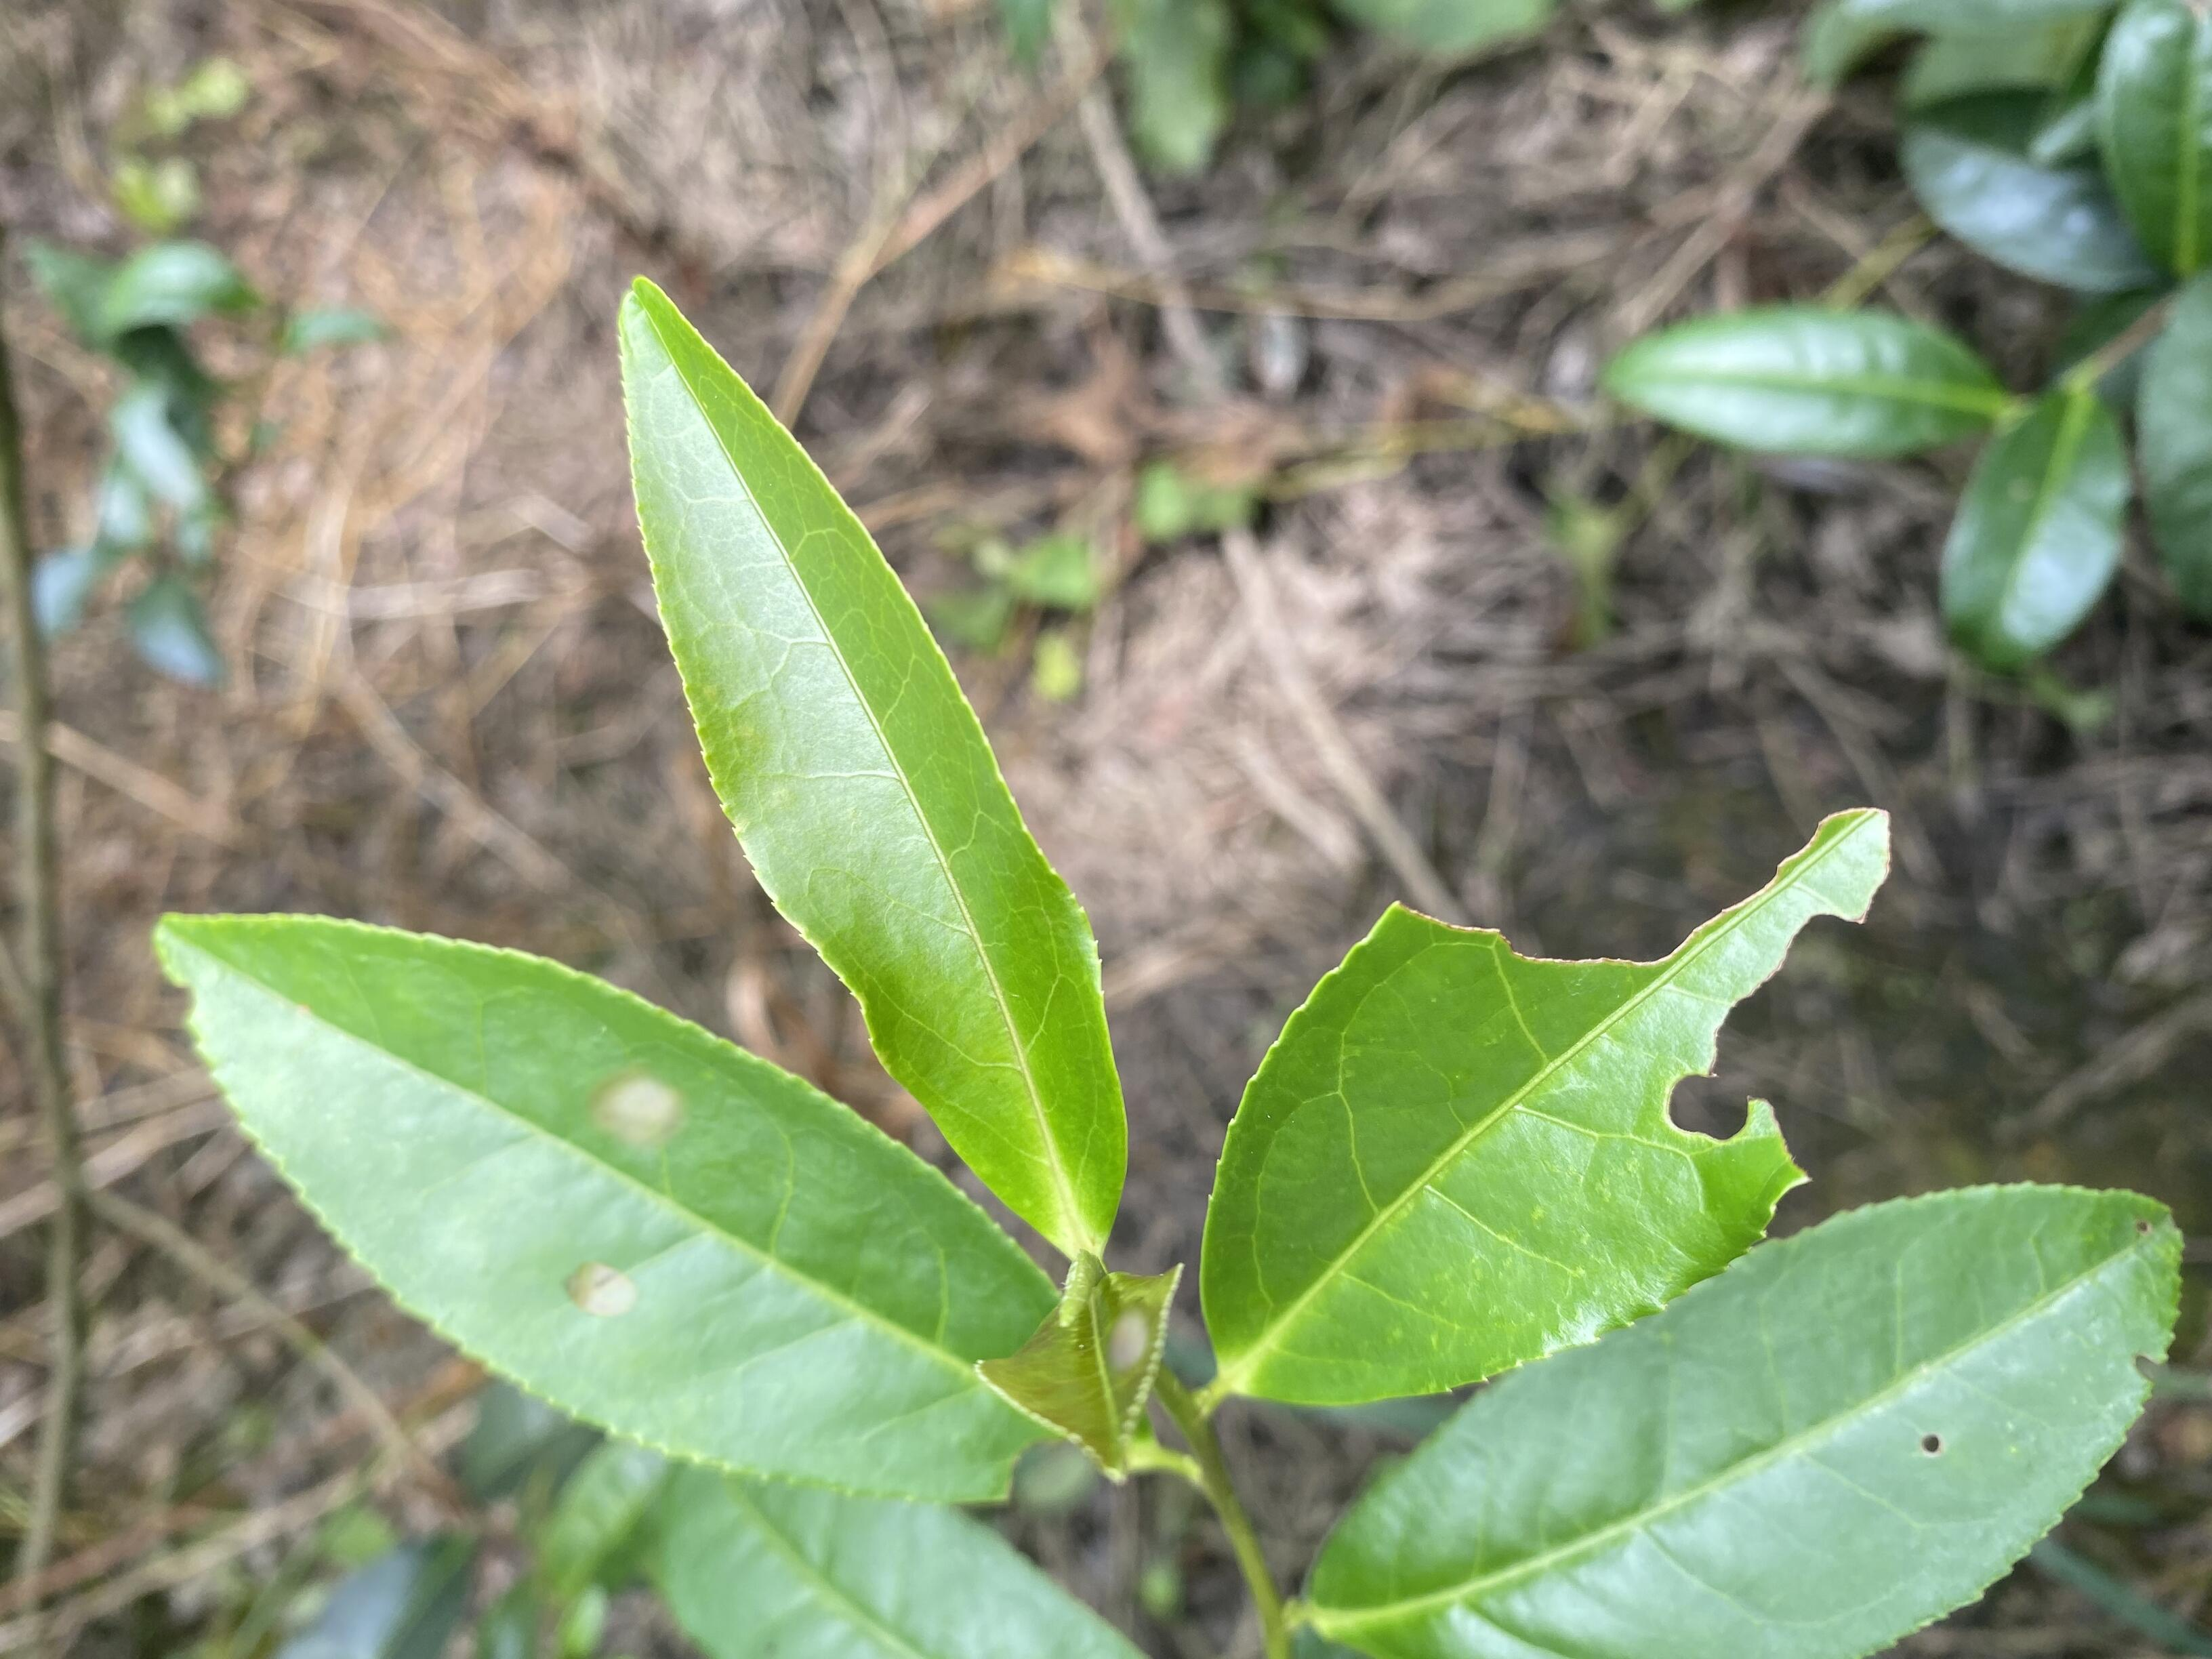chabing_high: (150, 911, 1062, 1504)
chabing_low: (977, 1265, 1186, 1483)
chihuo_high: (1198, 805, 1895, 1410)
chihuo_low: (1299, 1180, 2186, 1656)
healthy: (615, 279, 1125, 1260)
